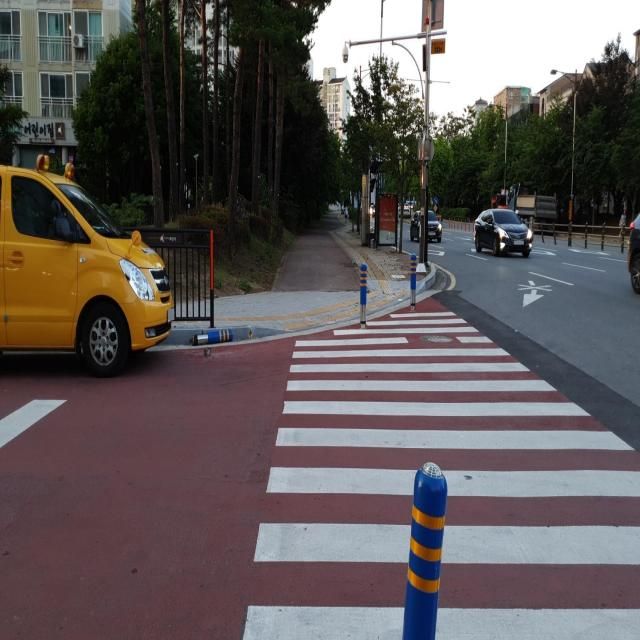횡단보도: (243, 309, 639, 640)
